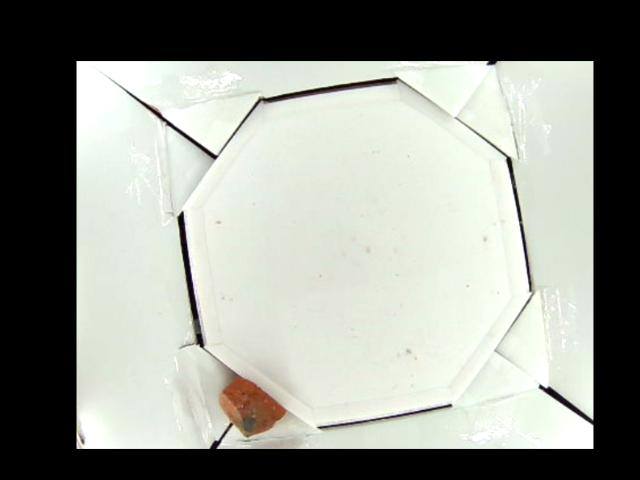Brisk: (220, 376, 283, 435)
